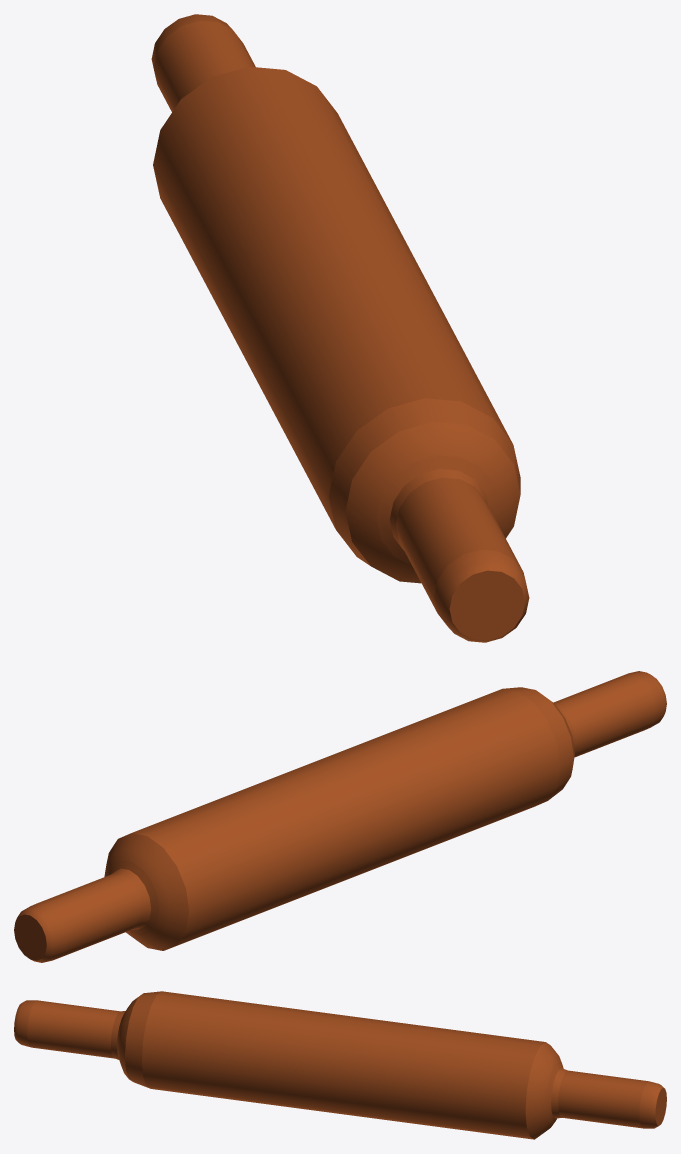
File: Mili1.fbx
3 renders of one model, top to bottom at view 1: azimuth 30°, elevation 25°; view 2: azimuth 150°, elevation 25°; view 3: azimuth 270°, elevation 25°, orthographic. The views are drawn at different scales.
Parts seen in each view (by area): view 1: Cylinder; view 2: Cylinder; view 3: Cylinder.
Boxes of the visible parts, x1=… form: Cylinder: x1=151, y1=14, x2=529, y2=642; Cylinder: x1=14, y1=671, x2=666, y2=962; Cylinder: x1=14, y1=991, x2=666, y2=1139.
Size of the model in its own units: 60.52 by 24.72 by 164.
